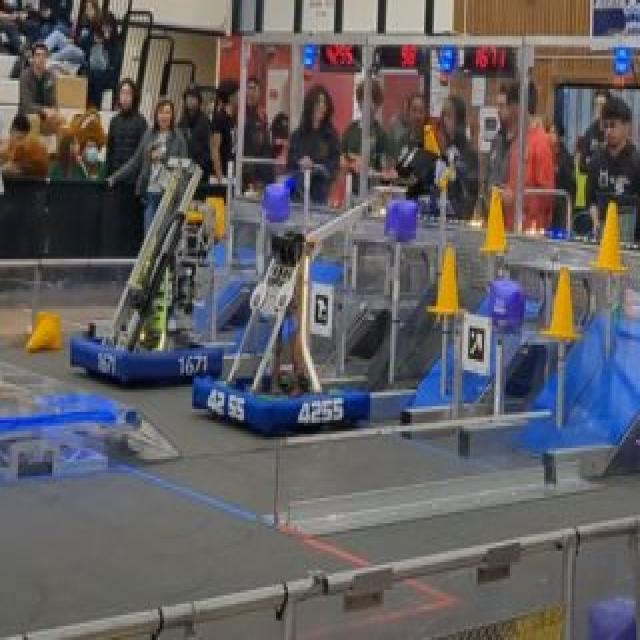robot: (190, 189, 390, 435), (62, 145, 242, 390)
